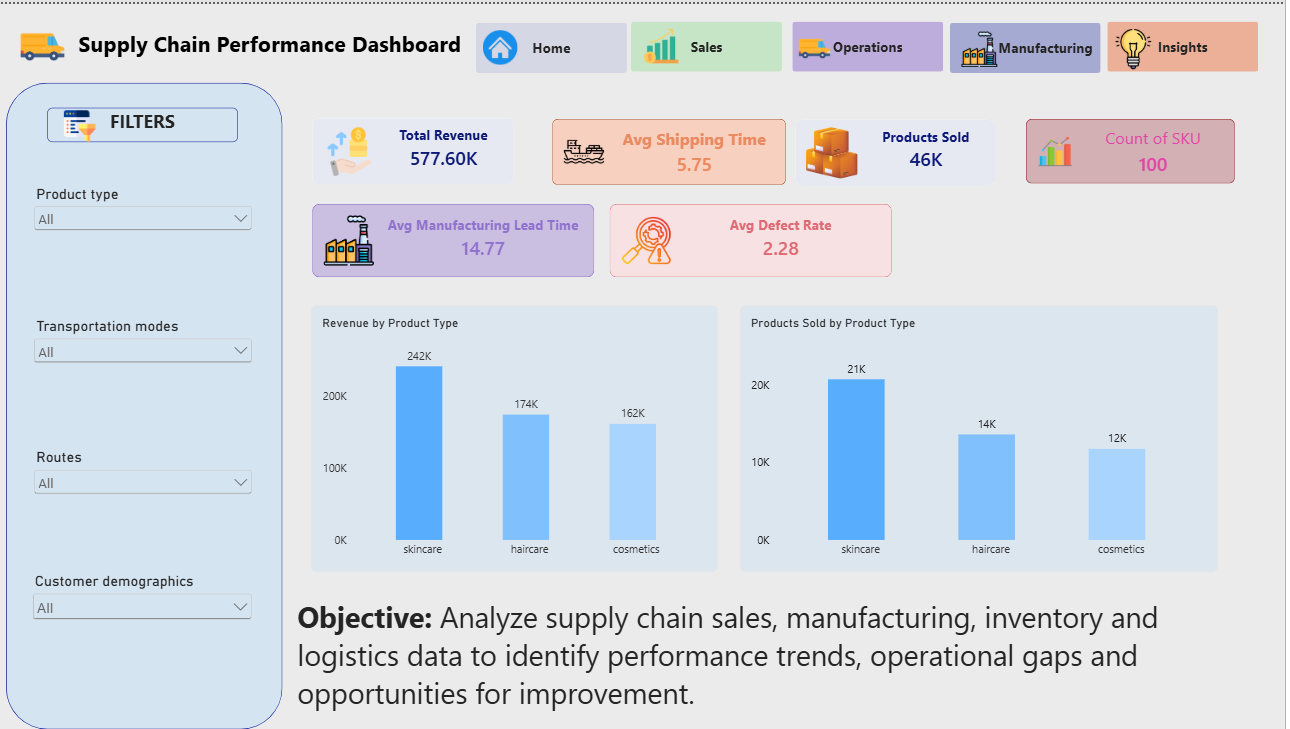

The page's visual inventory and layout, read from the dashboard file:
{"tool":"powerbi","page":{"name":"Page 1","canvas":[1920,1080],"ordinal":0},"visuals":[{"type":"textbox","box":[449.4,883.2,1441.6,176.6],"z":0,"group":"g1"},{"type":"cardVisual","title":" Card","fields":{"Data":["supply_chain_cleaned.Total Revenue"]},"box":[470.1,168.8,300,100.9],"z":1000},{"type":"columnChart","title":"Revenue by Product Type","fields":{"Category":["supply_chain_cleaned.Product type"],"Y":["supply_chain_cleaned.Total Revenue"]},"box":[470.2,449.4,605.2,397.4],"z":1000,"group":"g1"},{"type":"columnChart","title":"Products Sold by Product Type","fields":{"Category":["supply_chain_cleaned.Product type"],"Y":["Sum(supply_chain_cleaned.Number of products sold)"]},"box":[1109.2,449.4,711.7,397.4],"z":2000,"group":"g1"},{"type":"cardVisual","title":"Card","fields":{"Data":["supply_chain_cleaned.Total Products Sold"]},"box":[1189.6,171.4,300,100],"z":3000},{"type":"textbox","box":[26.8,0,763.6,100.9],"z":7000},{"type":"shape","box":[14.4,117.3,411.7,963.3],"z":8000},{"type":"slicer","fields":{"Values":["supply_chain_cleaned.Product type"]},"box":[52.2,269.6,333.4,123.5],"z":9000},{"type":"slicer","fields":{"Values":["supply_chain_cleaned.Transportation modes"]},"box":[52.2,466.6,333.4,123.5],"z":10000},{"type":"slicer","fields":{"Values":["supply_chain_cleaned.Routes"]},"box":[52.2,663.5,333.4,111.1],"z":11000},{"type":"slicer","fields":{"Values":["supply_chain_cleaned.Customer demographics"]},"box":[51.2,848,335.5,105],"z":12000},{"type":"image","box":[14.4,28.8,109.1,72],"z":13000},{"type":"actionButton","box":[715.4,27.5,225,75],"z":14000},{"type":"actionButton","box":[946.5,25.7,225,75],"z":15000},{"type":"actionButton","box":[1186.8,25.7,225,75],"z":16000},{"type":"actionButton","box":[1654.5,25.7,225,75],"z":17000},{"type":"image","box":[715.4,38.5,72,51.5],"z":18000},{"type":"textbox","box":[76.2,154.4,284,51.5],"z":19000},{"type":"image","box":[92.6,158.5,63.8,47.3],"z":20000},{"type":"image","box":[959.3,36.7,63.8,51.5],"z":21000},{"type":"image","box":[1188.6,40.4,62.4,51.4],"z":22000},{"type":"image","box":[1654.6,36.4,77.9,59.7],"z":23000},{"type":"actionButton","box":[1421.5,27.5,225,75],"z":25000},{"type":"image","box":[1436.2,40.4,58.7,53.2],"z":26000},{"type":"cardVisual","fields":{"Data":["supply_chain_cleaned.Avg Manufacturing Lead Time"]},"box":[470.1,298.7,420.8,109.1],"z":27000},{"type":"cardVisual","fields":{"Data":["supply_chain_cleaned.Avg Defect Rate"]},"box":[914.3,298.7,420.8,109.1],"z":28000},{"type":"cardVisual","fields":{"Data":["Count(supply_chain_cleaned.SKU)"]},"box":[1535.1,171.4,311.7,96.1],"z":29000},{"type":"cardVisual","fields":{"Data":["supply_chain_cleaned.Avg Shipping Time"]},"box":[828.6,171.4,348.1,98.7],"z":31000},{"type":"group","id":"g1","title":"Home","box":[449.4,449.4,1441.6,610.4],"z":32000}]}

Visuals, with their boxes in screenshot pixels (x1, y1, x2, y2), scaled from the page's 1920x1080 canvas onto the 1290x729 screenshot:
textbox: BBox(302, 596, 1271, 715)
" Card" cardVisual: BBox(316, 114, 517, 182)
"Revenue by Product Type" columnChart: BBox(316, 303, 723, 572)
"Products Sold by Product Type" columnChart: BBox(745, 303, 1223, 572)
"Card" cardVisual: BBox(799, 116, 1001, 183)
textbox: BBox(18, 0, 531, 68)
shape: BBox(10, 79, 286, 728)
slicer - supply_chain_cleaned.Product type: BBox(35, 182, 259, 265)
slicer - supply_chain_cleaned.Transportation modes: BBox(35, 315, 259, 398)
slicer - supply_chain_cleaned.Routes: BBox(35, 448, 259, 523)
slicer - supply_chain_cleaned.Customer demographics: BBox(34, 572, 260, 643)
image: BBox(10, 19, 83, 68)
actionButton: BBox(481, 19, 632, 69)
actionButton: BBox(636, 17, 787, 68)
actionButton: BBox(797, 17, 949, 68)
actionButton: BBox(1112, 17, 1263, 68)
image: BBox(481, 26, 529, 61)
textbox: BBox(51, 104, 242, 139)
image: BBox(62, 107, 105, 139)
image: BBox(645, 25, 687, 60)
image: BBox(799, 27, 841, 62)
image: BBox(1112, 25, 1164, 65)
actionButton: BBox(955, 19, 1106, 69)
image: BBox(965, 27, 1004, 63)
cardVisual - supply_chain_cleaned.Avg Manufacturing Lead Time: BBox(316, 202, 599, 275)
cardVisual - supply_chain_cleaned.Avg Defect Rate: BBox(614, 202, 897, 275)
cardVisual - Count(supply_chain_cleaned.SKU): BBox(1031, 116, 1241, 181)
cardVisual - supply_chain_cleaned.Avg Shipping Time: BBox(557, 116, 791, 182)
"Home" group: BBox(302, 303, 1271, 715)
